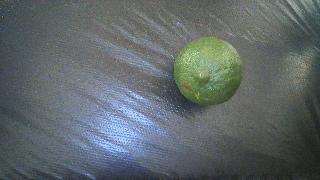DESECHO: (174, 37, 243, 105)
